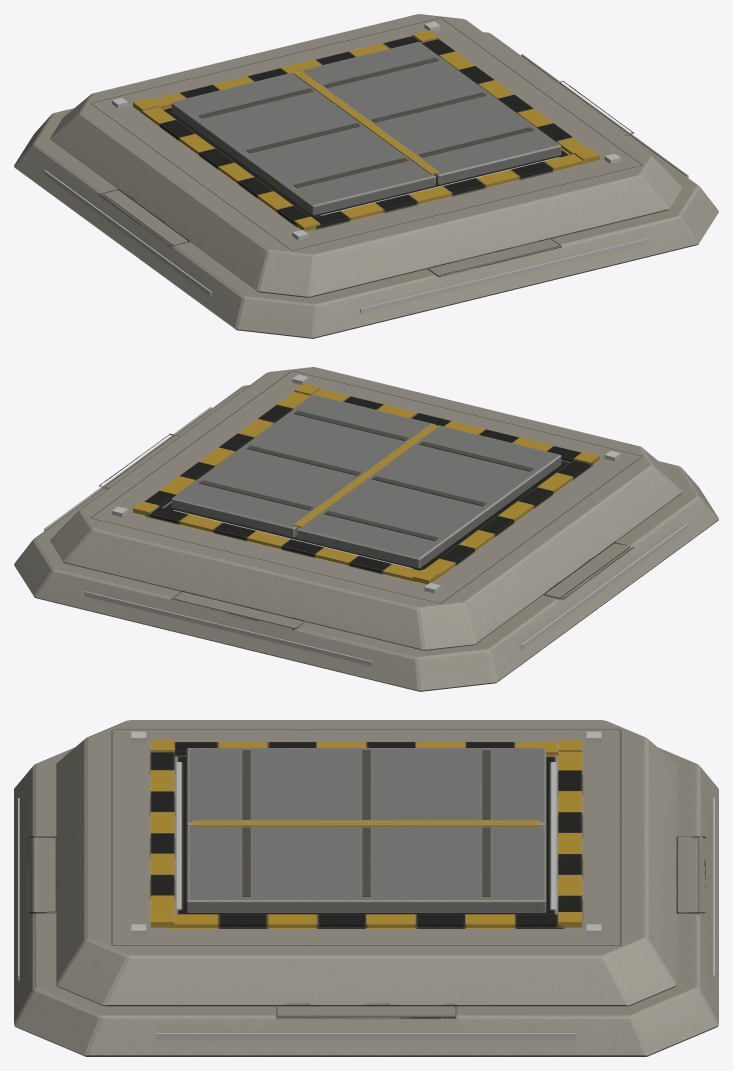
Rendered from ord_reckoning.fbx.
3 renders of one model, top to bottom at view 1: azimuth 30°, elevation 25°; view 2: azimuth 150°, elevation 25°; view 3: azimuth 270°, elevation 25°, orthographic. The views are drawn at different scales.
Parts seen in each view (by area): view 1: base_bar, hatch_bar, hatch2_bar, base_glow_running_bar, base_glow_power_bar; view 2: base_bar, hatch_bar, hatch2_bar, base_glow_running_bar, base_glow_power_bar; view 3: base_bar, hatch2_bar, hatch_bar, base_glow_running_bar, base_glow_power_bar.
Boxes of the visible parts, x1,y1,x2,y2 form: base_bar: (14, 14, 718, 338); hatch_bar: (171, 72, 435, 215); hatch2_bar: (297, 42, 561, 184); base_glow_running_bar: (44, 54, 688, 313); base_glow_power_bar: (112, 21, 620, 240); base_bar: (14, 367, 718, 691); hatch_bar: (297, 425, 561, 568); hatch2_bar: (171, 395, 435, 537); base_glow_running_bar: (44, 407, 688, 666); base_glow_power_bar: (112, 374, 620, 593); base_bar: (14, 720, 718, 1056); hatch2_bar: (186, 822, 546, 912); hatch_bar: (186, 748, 546, 826); base_glow_running_bar: (18, 798, 714, 1039); base_glow_power_bar: (131, 731, 601, 935).
Size of the model in its own units: 2352 by 515 by 2352.
2 materials, 2 textured.
